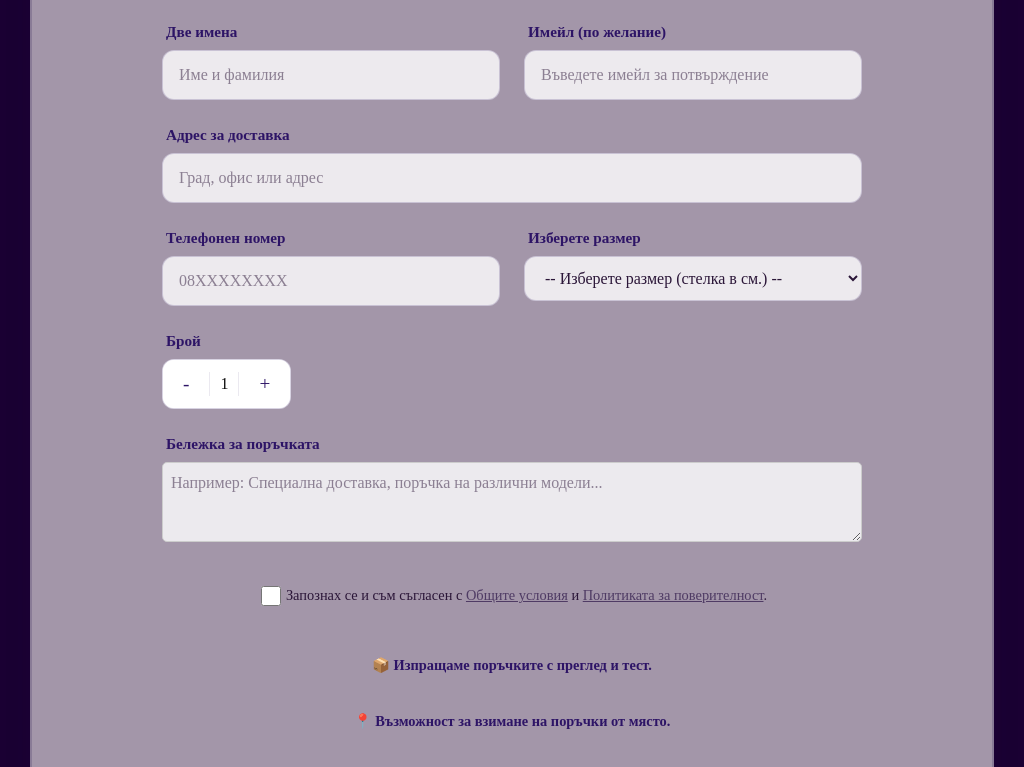
Test: ProductDetails component › increase and decrease quantity
The width and height of the screenshot is (1024, 767).
(page scrolled)
Expected: the text "1" is shown, [209,372,239,396]
Click the button "+". click: coordinates (265, 384)
box: [239,360,290,408]
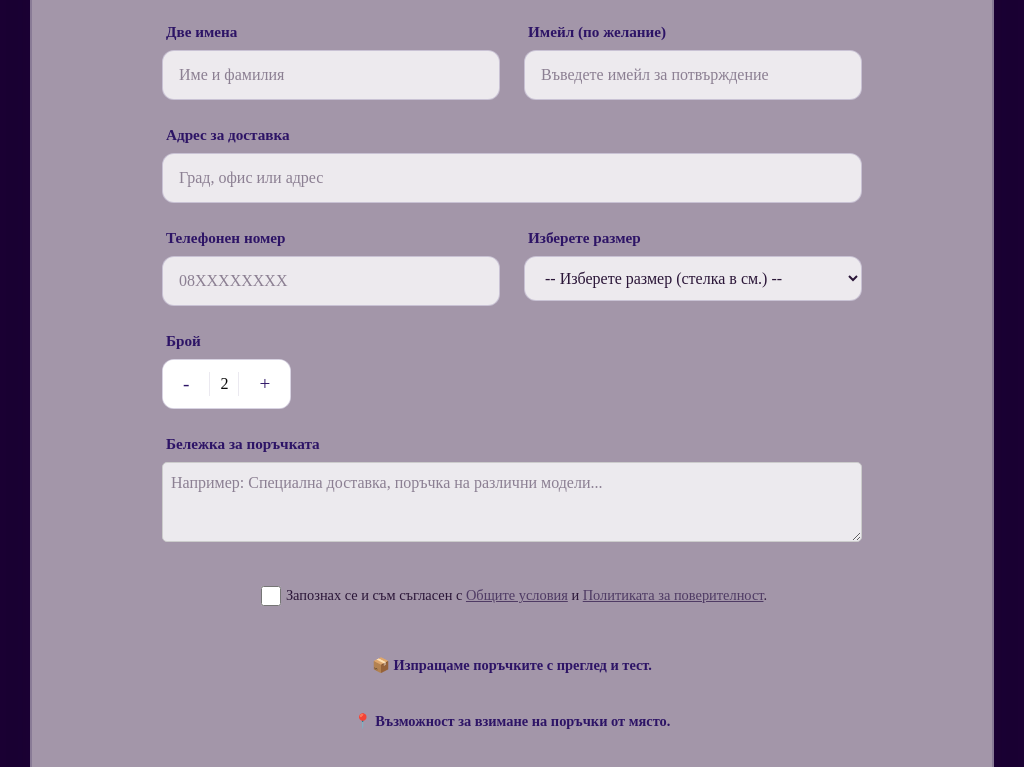
Result: the text "2" is shown at [209,372,239,396]
Click the button "-". click: coordinates (186, 384)
box: [163,360,209,408]
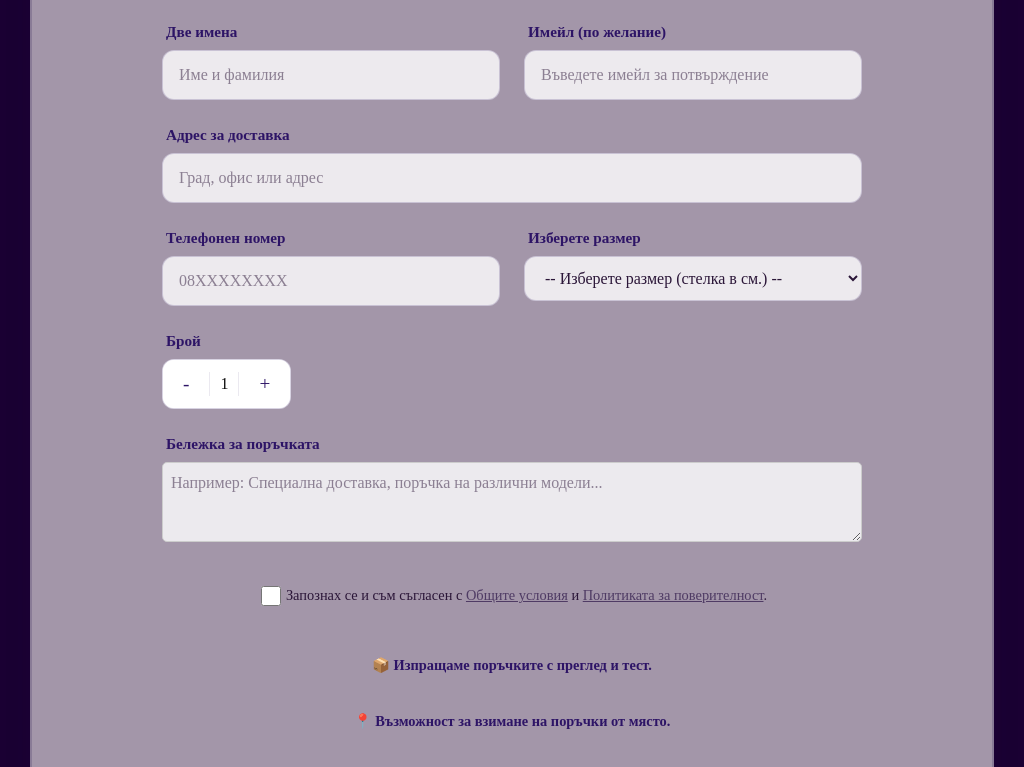
Result: the text "1" is shown at [209,372,239,396]
